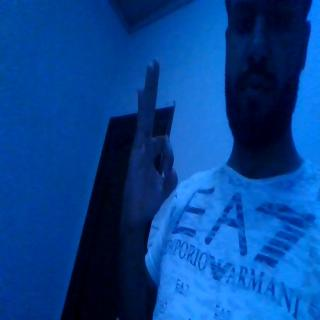Space: (112, 56, 180, 237)
